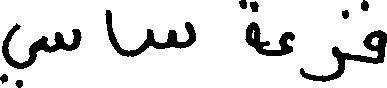X: (303, 6, 343, 86), (0, 18, 39, 87), (149, 17, 194, 53), (367, 0, 386, 68), (41, 24, 79, 57), (247, 0, 257, 56), (279, 27, 293, 60), (109, 5, 116, 55)
